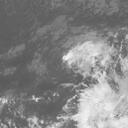cyclone: (63, 40, 114, 77)
